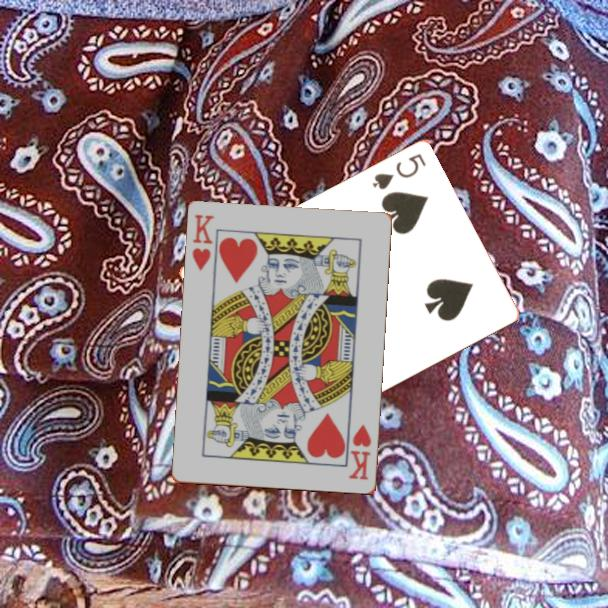h13: (189, 211, 217, 274), (346, 421, 374, 483)
s05: (368, 150, 429, 193)
